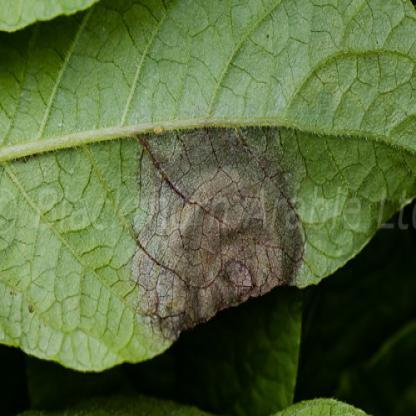Potato leaf late blight: (1, 1, 415, 366)
